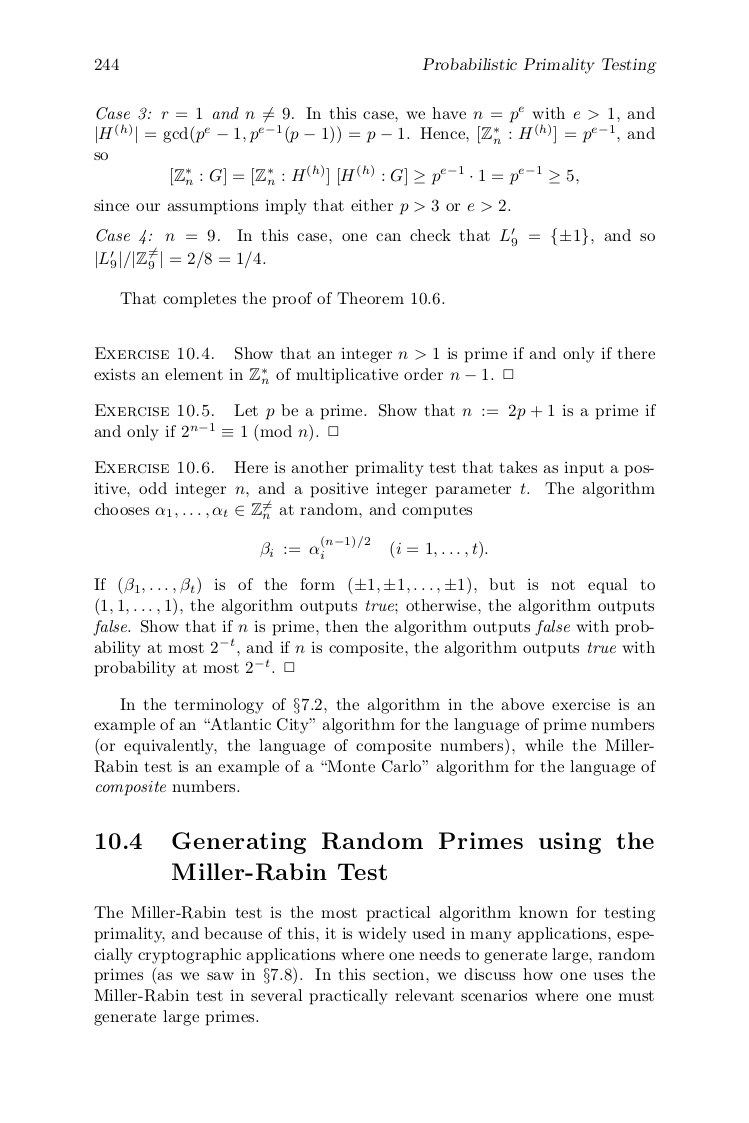formula: (171, 164, 578, 186), (260, 535, 487, 559)
